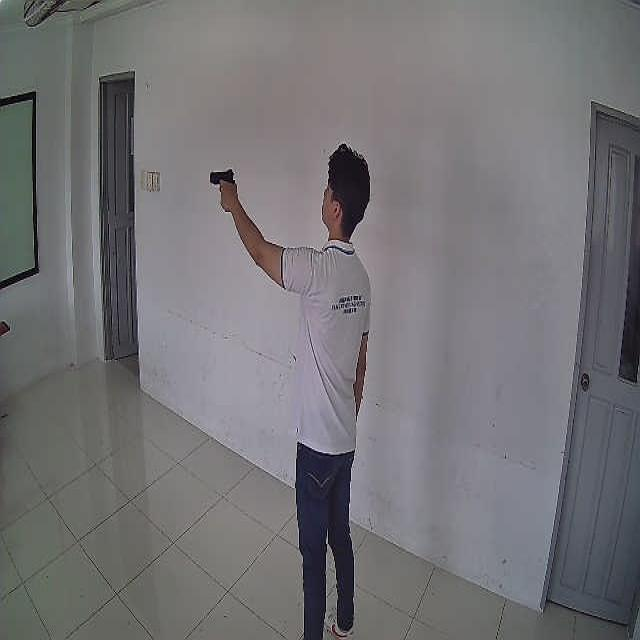pistol: (208, 170, 235, 187)
